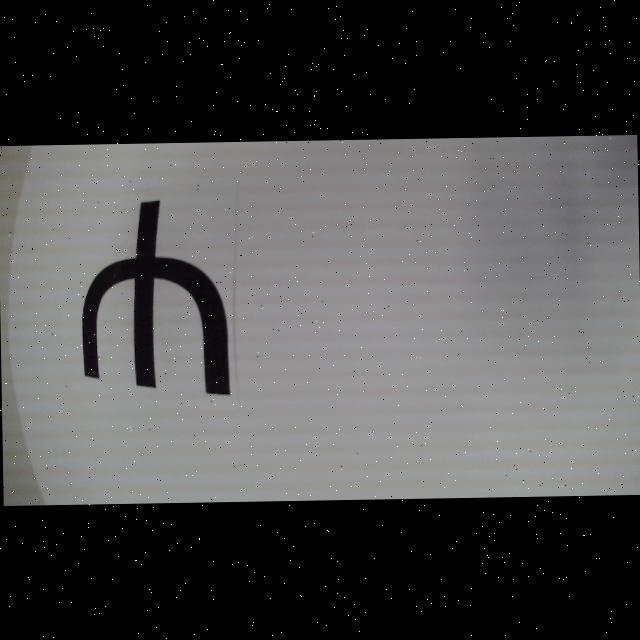PSI: (79, 198, 230, 398)
